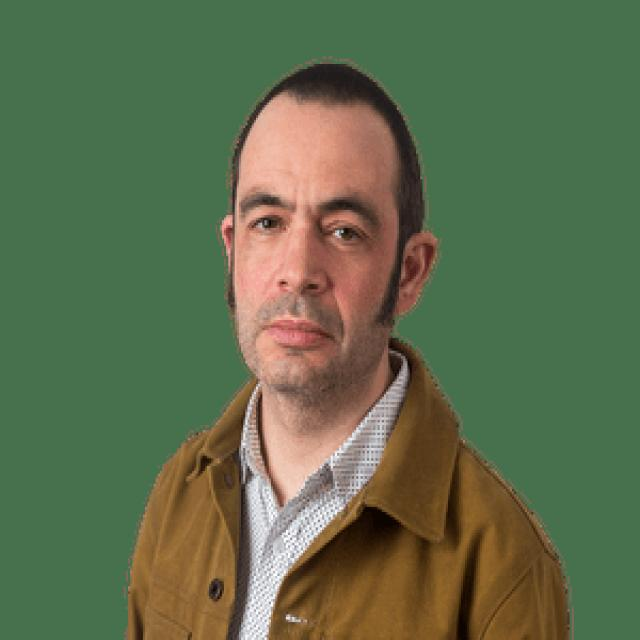human: (115, 51, 576, 640)
